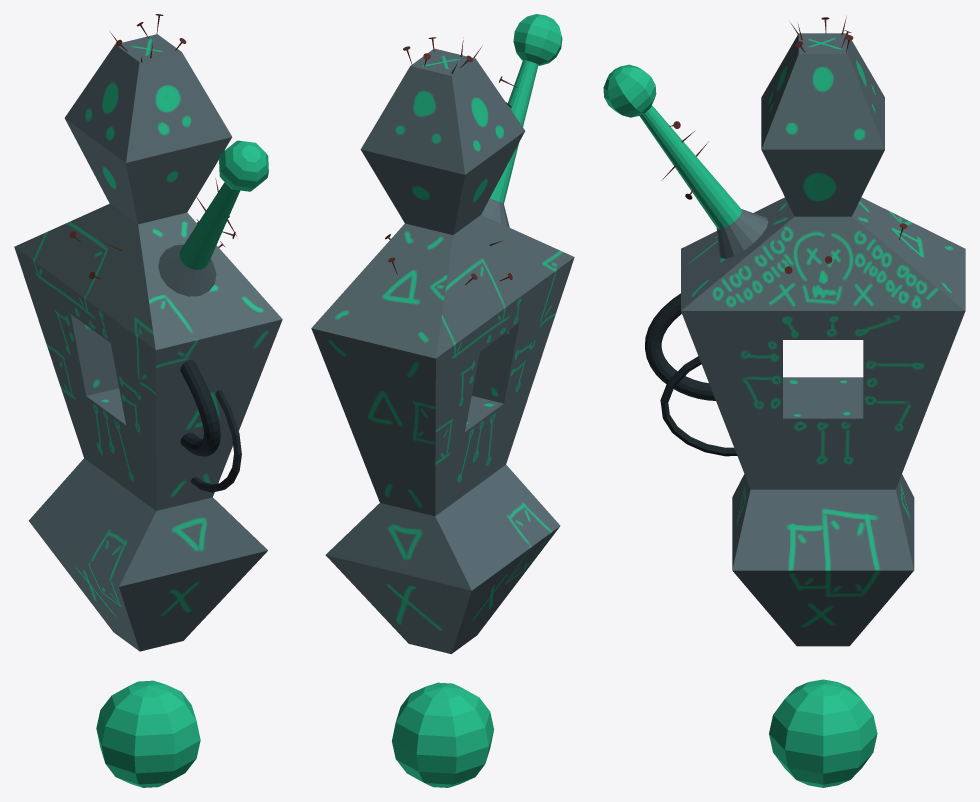
Rendered from evil_bot.gltf.
The picture shows the model from 3 angles, left to right: view 1: azimuth 30°, elevation 25°; view 2: azimuth 150°, elevation 25°; view 3: azimuth 270°, elevation 25°; orthographic projection. The views are drawn at different scales.
Visible parts, largest first — view 1: Cube.002, Cube.003, Cylinder.001, BezierCurve, BezierCurve.001; view 2: Cube.002, Cube.003, Cylinder.001; view 3: Cube.002, Cube.003, Cylinder.001, BezierCurve, BezierCurve.001.
Part boxes in pixels (left/top/right/bottom): Cube.002: left=14, top=34, right=282, bottom=651; Cube.003: left=96, top=680, right=200, bottom=787; Cylinder.001: left=158, top=140, right=268, bottom=296; BezierCurve: left=180, top=360, right=220, bottom=456; BezierCurve.001: left=190, top=390, right=241, bottom=492; Cube.002: left=311, top=48, right=574, bottom=654; Cube.003: left=392, top=682, right=493, bottom=787; Cylinder.001: left=481, top=14, right=562, bottom=227; Cube.002: left=681, top=33, right=965, bottom=646; Cube.003: left=769, top=679, right=877, bottom=787; Cylinder.001: left=603, top=64, right=768, bottom=258; BezierCurve: left=645, top=293, right=715, bottom=400; BezierCurve.001: left=660, top=356, right=737, bottom=456.
Size of the model in its own units: 0.8038 by 3.88 by 1.68.
1 material, 1 textured.
